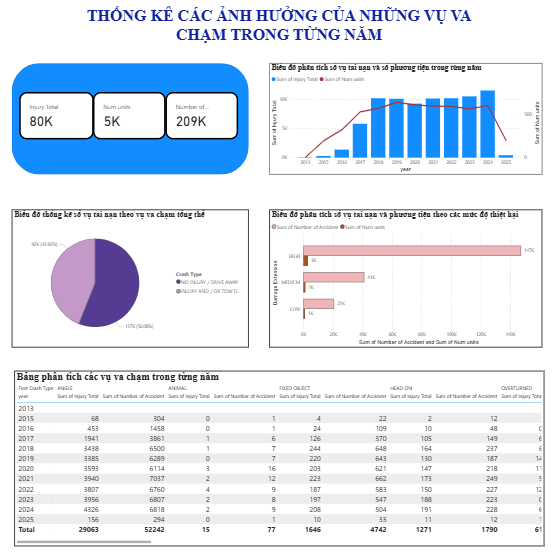

This screenshot's page, from the dashboard's own definition file:
{"tool":"powerbi","page":{"name":"Report 1","canvas":[1500,1500],"ordinal":0},"visuals":[{"type":"textbox","box":[9.6,0,279.9,41.2],"z":0},{"type":"textbox","box":[193.3,20,1113.3,120],"z":1000},{"type":"shape","box":[35,175,631.7,296.7],"z":2000},{"type":"cardVisual","fields":{"Data":["Sum(Query1.Injury Total)"]},"box":[55.1,254.9,198.3,126.7],"z":3000},{"type":"cardVisual","fields":{"Data":["Sum(Query1.Num units)"]},"box":[253.4,254.9,193.3,126.7],"z":4000},{"type":"lineStackedColumnComboChart","title":"Biểu đồ phân tích số vụ tai nạn và số phương tiện trong từng năm","fields":{"Category":["Query1.year"],"Y":["Sum(Query1.Injury Total)"],"Y2":["Sum(Query1.Num units)"]},"box":[721.7,175,728.3,296.7],"z":5000},{"type":"pieChart","title":"Biểu đồ thống kê số vụ tai nạn theo vụ va chạm tổng thể","fields":{"Y":["Sum(Query1.Number of Accident)"],"Category":["Query1.Crash Type"]},"box":[36.7,565,631.7,368.3],"z":6000},{"type":"clusteredBarChart","title":"Biểu đồ phân tích số vụ tai nạn và phương tiện theo các mức độ thiệt hại","fields":{"Category":["Query1.Damage Extension"],"Y":["Sum(Query1.Number of Accident)","Sum(Query1.Num units)"]},"box":[721.7,565,728.3,368.3],"z":7000},{"type":"pivotTable","title":"Bảng phân tích các vụ va chạm trong từng năm","fields":{"Rows":["Query1.year"],"Columns":["Query1.First Crash Type"],"Values":["Sum(Query1.Injury Total)","Sum(Query1.Number of Accident)"]},"box":[43.3,996.7,1413.3,468.3],"z":8000},{"type":"cardVisual","fields":{"Data":["Sum(Query1.Number of Accident)"]},"box":[446.8,254.9,193.3,126.7],"z":9000}]}

Visuals, with their boxes in screenshot pixels (x1, y1, x2, y2), scaled from the page's 1500x1500 canvas onto the 552x552 screenshot:
textbox: box(4, 0, 107, 15)
textbox: box(71, 7, 481, 52)
shape: box(13, 64, 245, 174)
cardVisual - Sum(Query1.Injury Total): box(20, 94, 93, 140)
cardVisual - Sum(Query1.Num units): box(93, 94, 164, 140)
"Biểu đồ phân tích số vụ tai nạn và số phương tiện trong từng năm" lineStackedColumnComboChart: box(266, 64, 534, 174)
"Biểu đồ thống kê số vụ tai nạn theo vụ va chạm tổng thể" pieChart: box(14, 208, 246, 343)
"Biểu đồ phân tích số vụ tai nạn và phương tiện theo các mức độ thiệt hại" clusteredBarChart: box(266, 208, 534, 343)
"Bảng phân tích các vụ va chạm trong từng năm" pivotTable: box(16, 367, 536, 539)
cardVisual - Sum(Query1.Number of Accident): box(164, 94, 236, 140)
